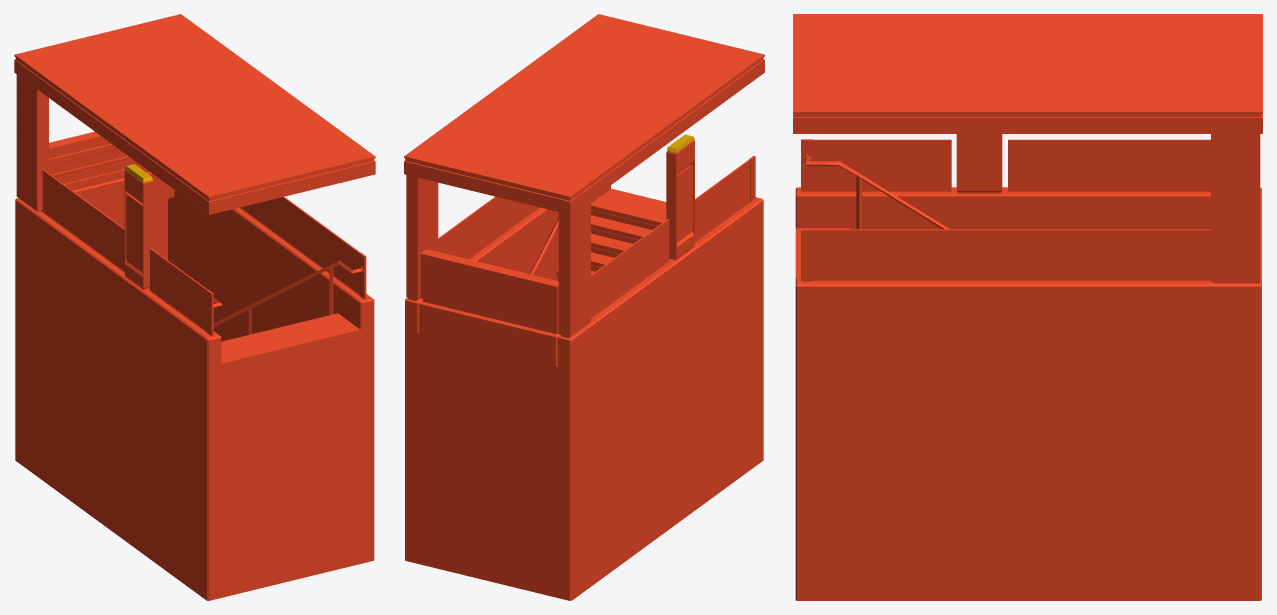
Rendered from SM_Subway_A_City.fbx.
3 views of the same model, side by side, from view 1: azimuth 30°, elevation 25°; view 2: azimuth 150°, elevation 25°; view 3: azimuth 270°, elevation 25° (orthographic). The views are drawn at different scales.
Visible parts, largest first — view 1: SM_Subway_A_City; view 2: SM_Subway_A_City; view 3: SM_Subway_A_City.
Boxes of the visible parts, x1=… form: SM_Subway_A_City: x1=14, y1=14, x2=375, y2=600; SM_Subway_A_City: x1=404, y1=14, x2=764, y2=600; SM_Subway_A_City: x1=793, y1=14, x2=1262, y2=600.
Bounding box in the file's own units: 3 × 6.94 × 6.04.
